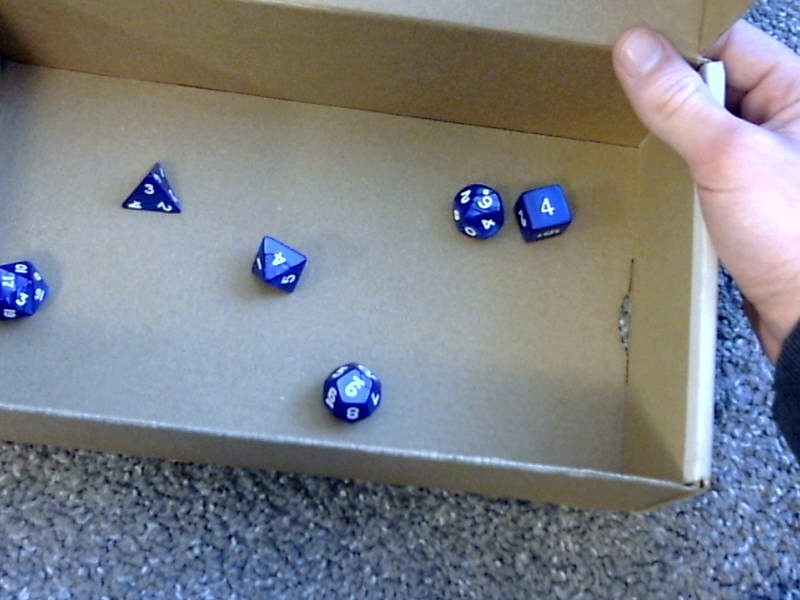d10 6: (449, 179, 508, 243)
d12 9: (315, 353, 382, 427)
d20 17: (0, 250, 52, 325)
d4 3: (113, 154, 184, 215)
d6 4: (510, 180, 574, 243)
d8 4: (245, 230, 309, 294)
